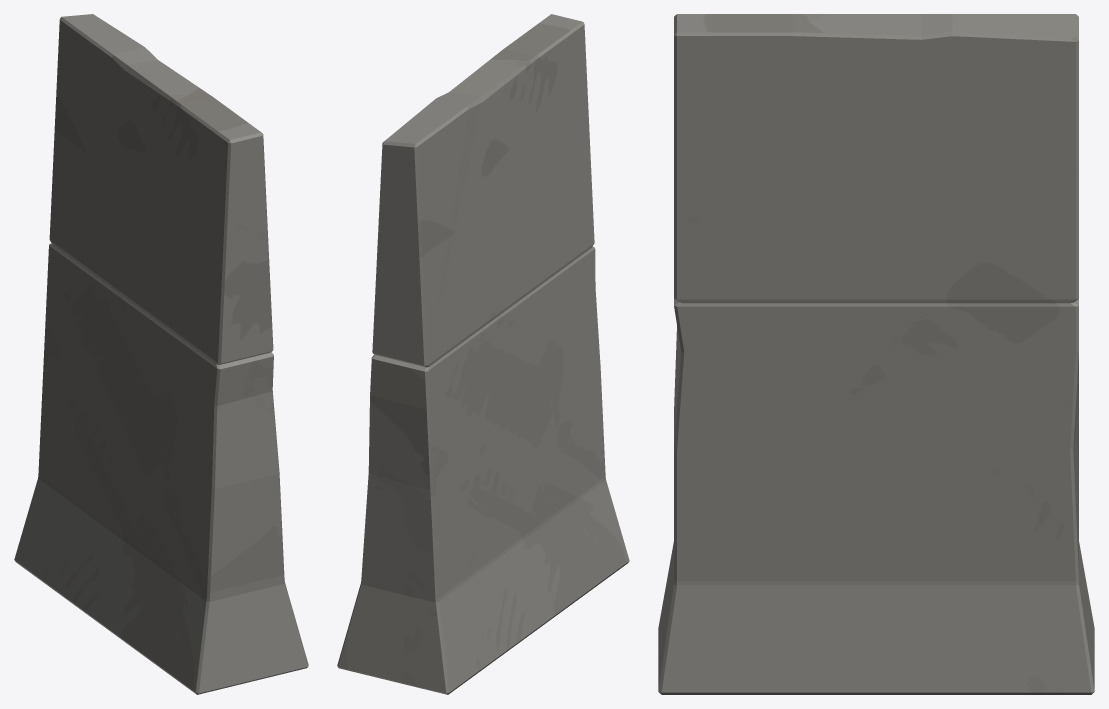
Rendered from model_concrete_barrier.fbx.
3 views of the same model, side by side, from view 1: azimuth 30°, elevation 25°; view 2: azimuth 150°, elevation 25°; view 3: azimuth 270°, elevation 25° (orthographic). The views are drawn at different scales.
Parts seen in each view (by area): view 1: model_concrete_barrier; view 2: model_concrete_barrier; view 3: model_concrete_barrier.
Part boxes in pixels (bbox=[...]): model_concrete_barrier: bbox=[14, 14, 308, 694]; model_concrete_barrier: bbox=[337, 14, 629, 694]; model_concrete_barrier: bbox=[658, 14, 1094, 694].
Bounding box in the file's own units: 69.71 × 319 × 197.
1 material, 1 textured.
